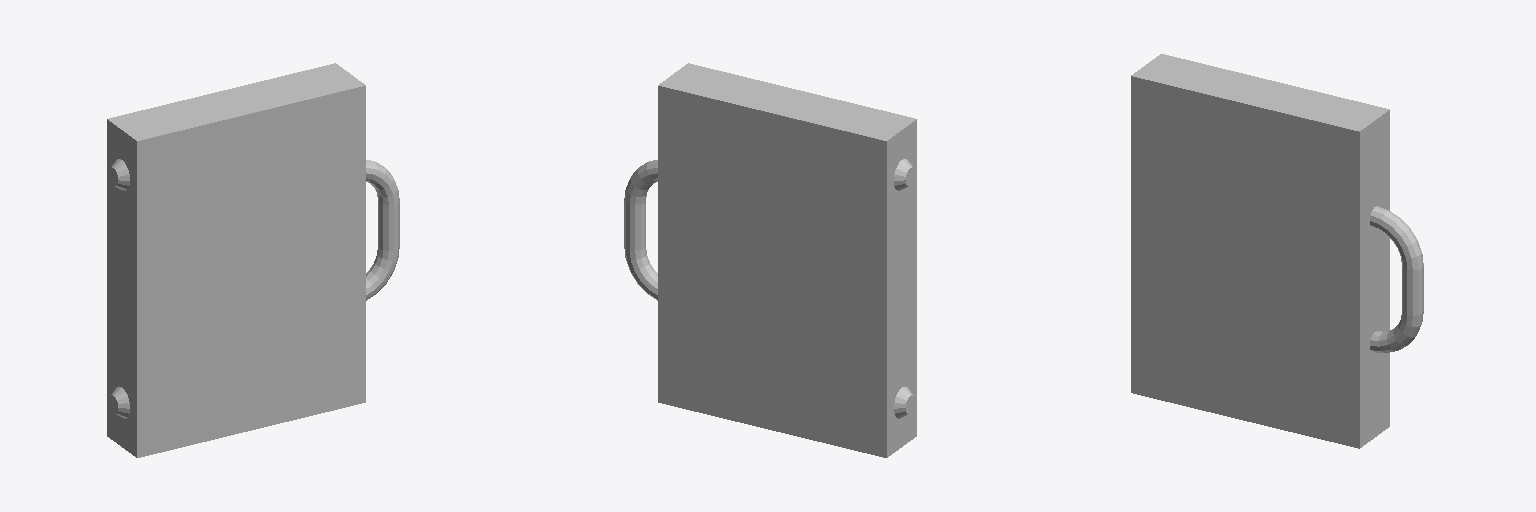
The model's file is suitcase.obj.
The picture shows the model from 3 angles: view 1: azimuth 30°, elevation 25°; view 2: azimuth 150°, elevation 25°; view 3: azimuth 330°, elevation 25°; orthographic projection.
Parts seen in each view (by area): view 1: Cube_Cube.001; view 2: Cube_Cube.001; view 3: Cube_Cube.001.
Part boxes in pixels (x1,y1,x2,y2): Cube_Cube.001: (107, 63, 399, 457); Cube_Cube.001: (624, 63, 916, 457); Cube_Cube.001: (1131, 54, 1423, 448).
Bounding box in the file's own units: 0.3271 × 0.3481 × 0.0607.